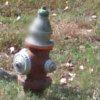Hydrant: (11, 2, 59, 95)
